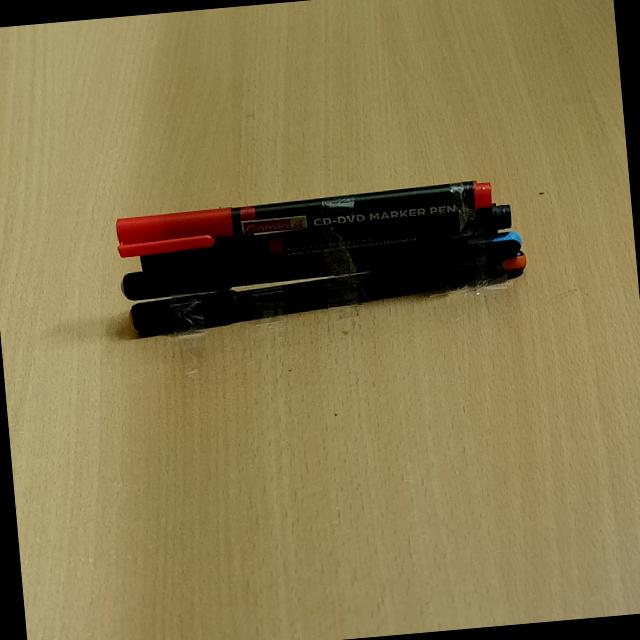marker: (91, 156, 510, 254)
pen: (105, 220, 529, 298)
